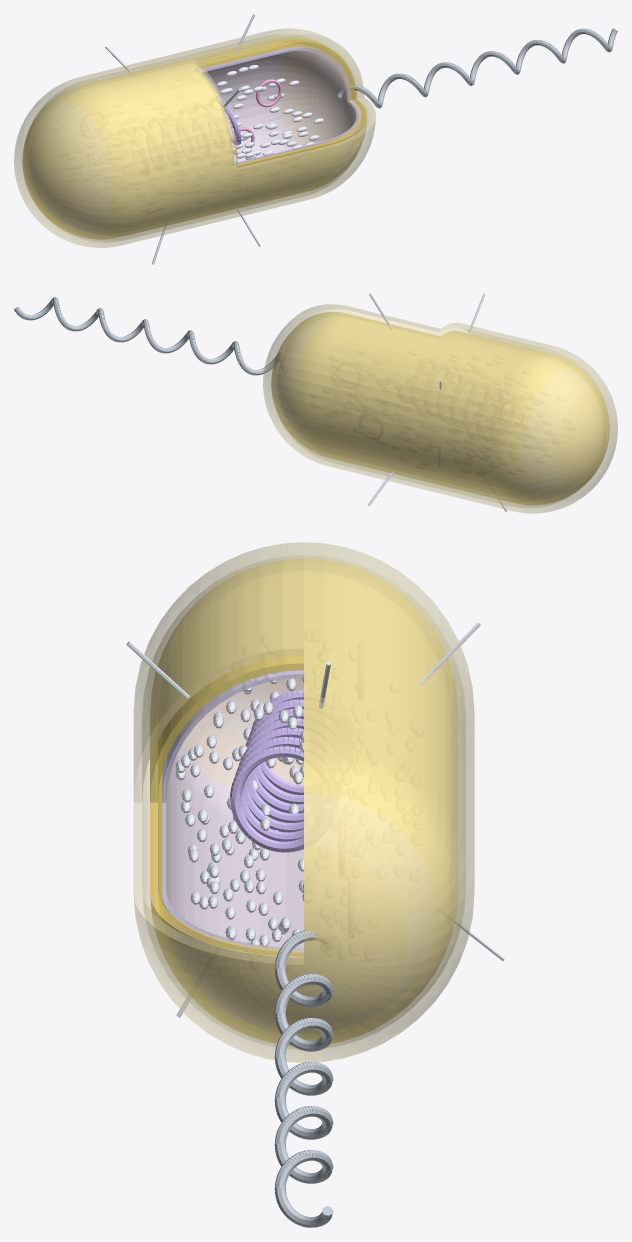
The model's file is bacterium.glb.
3 renders of one model, top to bottom at view 1: azimuth 30°, elevation 25°; view 2: azimuth 150°, elevation 25°; view 3: azimuth 270°, elevation 25°, orthographic. The views are drawn at different scales.
Parts seen in each view (by area): view 1: capsule, cell-wall, cell-membrane, flagellum, ribosomes, pili, nucleoid, plasmids; view 2: capsule, cell-wall, flagellum, pili; view 3: capsule, cell-wall, cell-membrane, flagellum, ribosomes, nucleoid, pili.
Boxes of the visible parts, x1,y1,x2,y2 form: capsule: (14, 28, 375, 247); cell-wall: (22, 37, 367, 239); cell-membrane: (199, 45, 361, 164); flagellum: (337, 28, 617, 108); ribosomes: (216, 65, 323, 162); pili: (105, 14, 260, 264); nucleoid: (218, 97, 241, 145); plasmids: (233, 79, 281, 154); capsule: (263, 304, 617, 513); cell-wall: (271, 312, 609, 504); flagellum: (14, 297, 281, 375); pili: (368, 293, 507, 512); capsule: (133, 542, 474, 1062); cell-wall: (150, 559, 457, 1045); cell-membrane: (162, 670, 303, 956); flagellum: (274, 930, 333, 1227); ribosomes: (175, 673, 303, 946); nucleoid: (230, 690, 303, 852); pili: (126, 622, 505, 1017).
Bounding box in the file's own units: 28.6 × 9.49 × 8.01.
